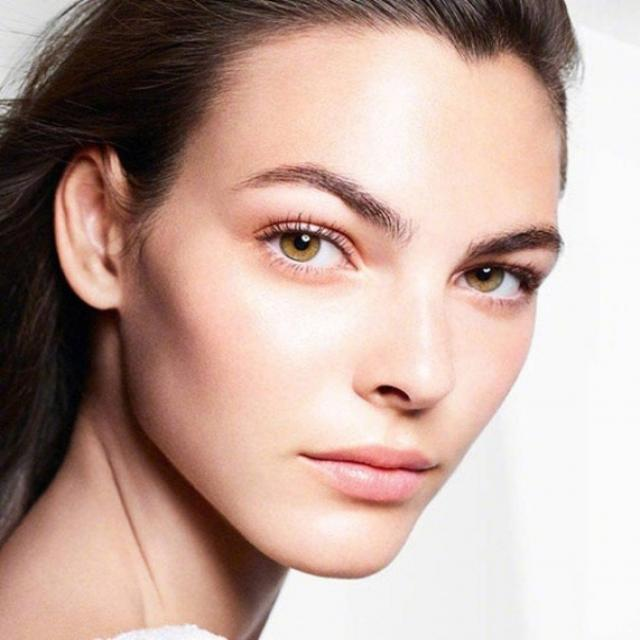earlobe: (53, 145, 125, 311)
